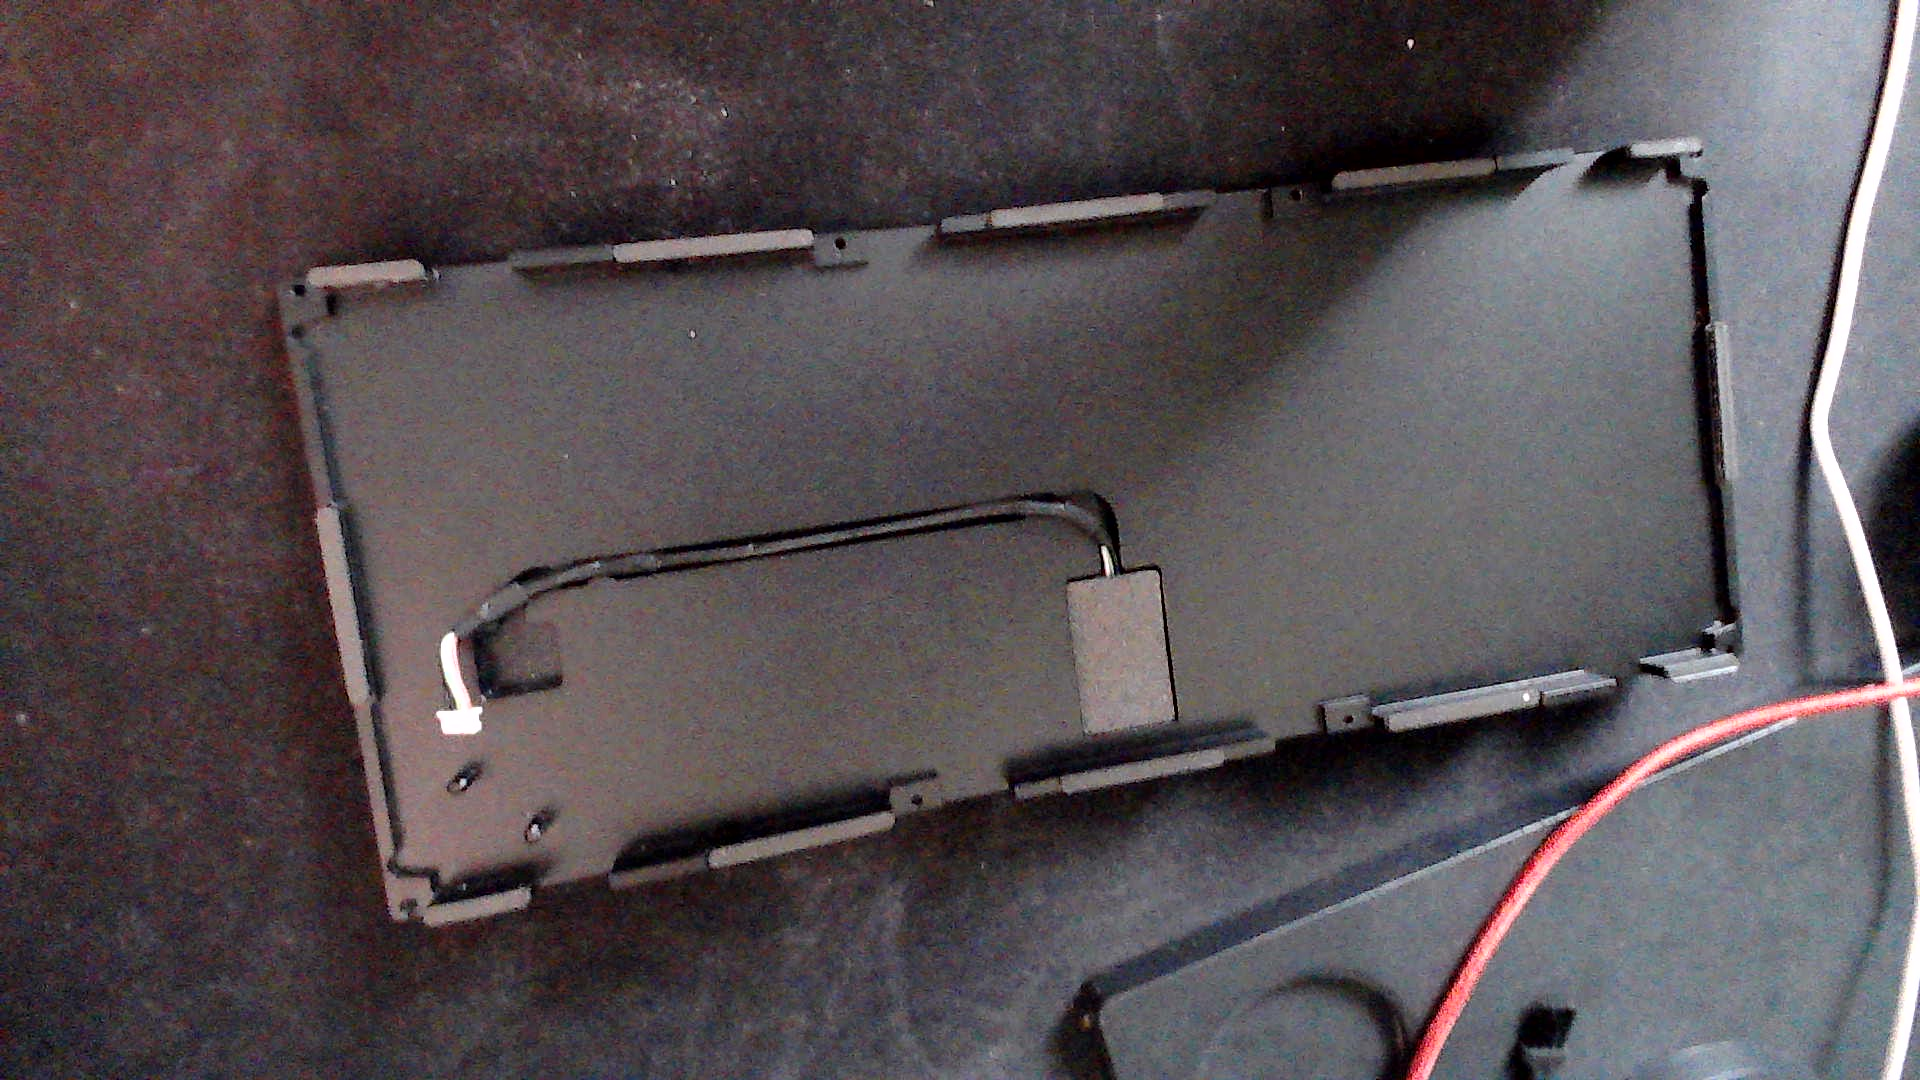case: (244, 128, 1764, 982)
